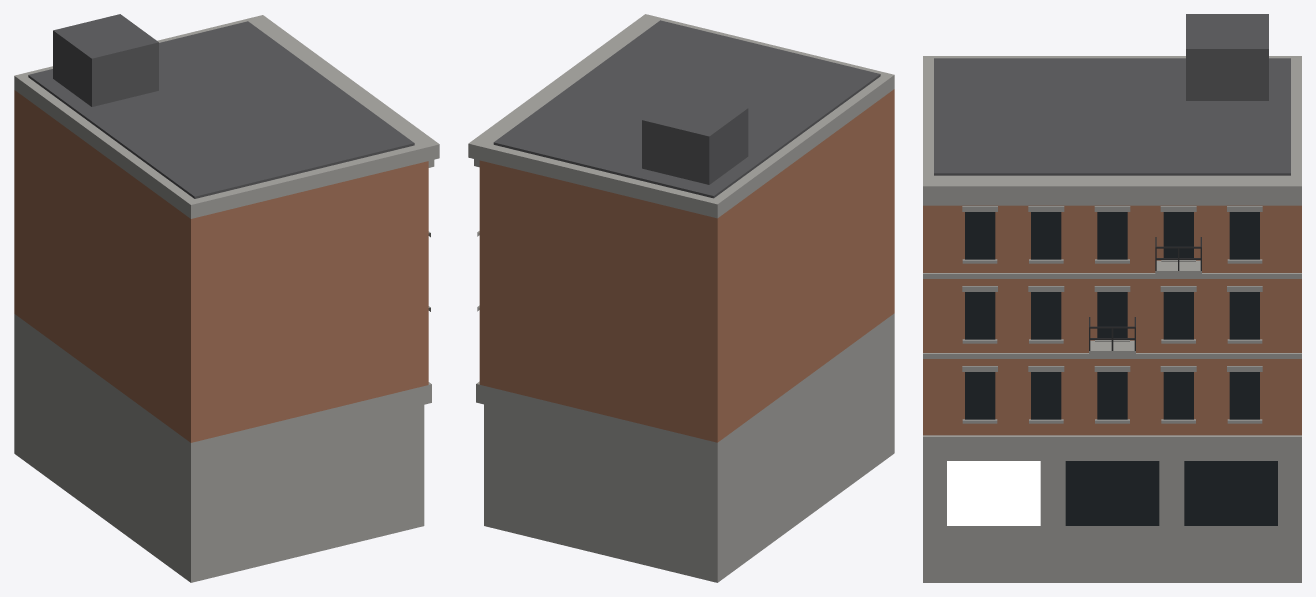
3 views of the same model, side by side, from view 1: azimuth 30°, elevation 25°; view 2: azimuth 150°, elevation 25°; view 3: azimuth 270°, elevation 25° (orthographic). The views are drawn at different scales.
Parts seen in each view (by area): view 1: facades, roofs; view 2: facades, roofs; view 3: facades, roofs, windows, lit.
Boxes of the visible parts, left/top/right/bottom form: facades: left=14, top=15, right=439, bottom=582; roofs: left=28, top=14, right=414, bottom=198; facades: left=468, top=14, right=894, bottom=582; roofs: left=493, top=20, right=880, bottom=198; facades: left=923, top=56, right=1301, bottom=582; roofs: left=934, top=14, right=1290, bottom=175; windows: left=965, top=212, right=1277, bottom=525; lit: left=947, top=461, right=1040, bottom=525.
Size of the model in its own units: 11.56 by 18.38 by 13.74.
